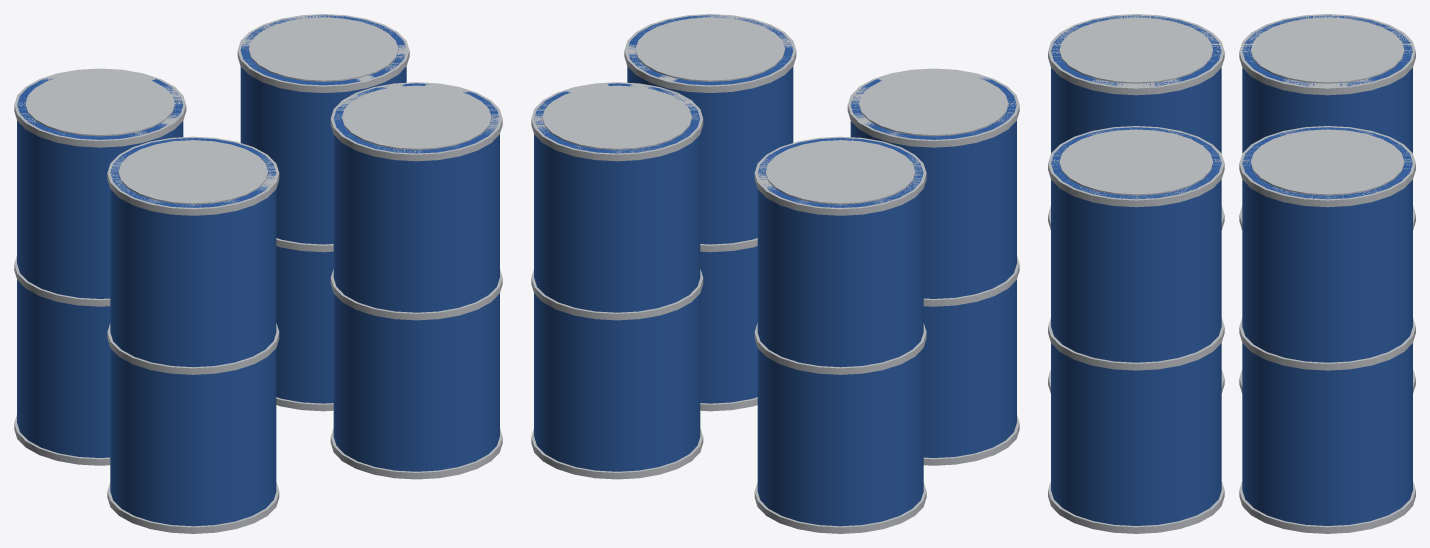
The model's file is load-iso1200x1000-drums.glb.
The picture shows the model from 3 angles, left to right: view 1: azimuth 30°, elevation 25°; view 2: azimuth 150°, elevation 25°; view 3: azimuth 270°, elevation 25°; orthographic projection. The views are drawn at different scales.
Parts seen in each view (by area): view 1: load-drums; view 2: load-drums; view 3: load-drums.
Boxes of the visible parts, box(x1,y1,x2,y2) form: load-drums: box(14, 14, 502, 533); load-drums: box(531, 14, 1019, 533); load-drums: box(1048, 14, 1415, 533).
Bounding box in the file's own units: 1.2 × 1 × 1.
